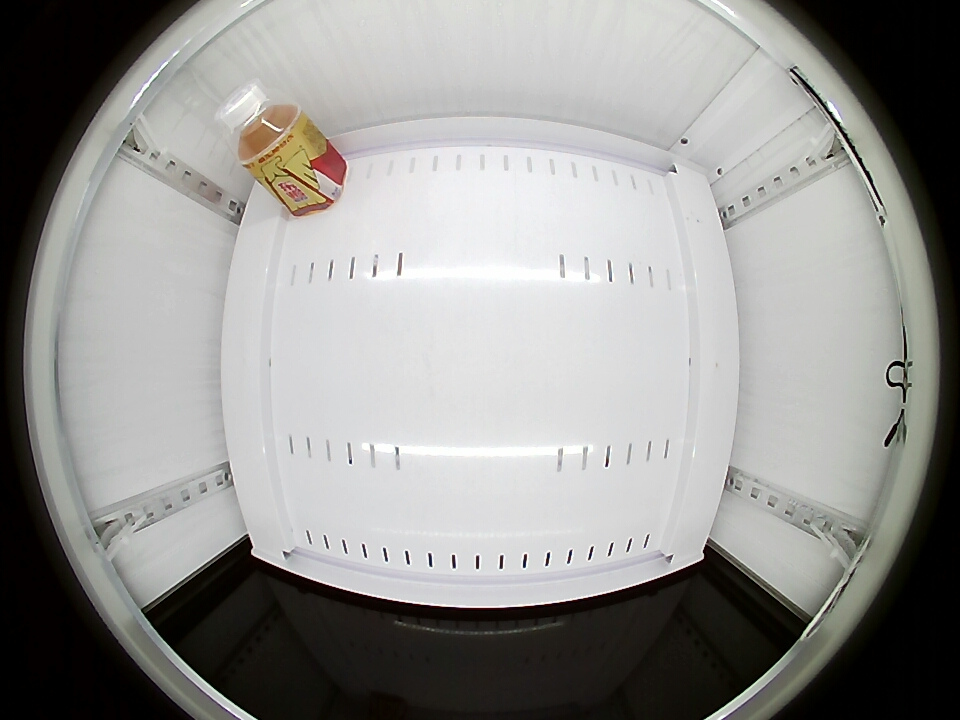dongpeng-b: (216, 82, 305, 169)
